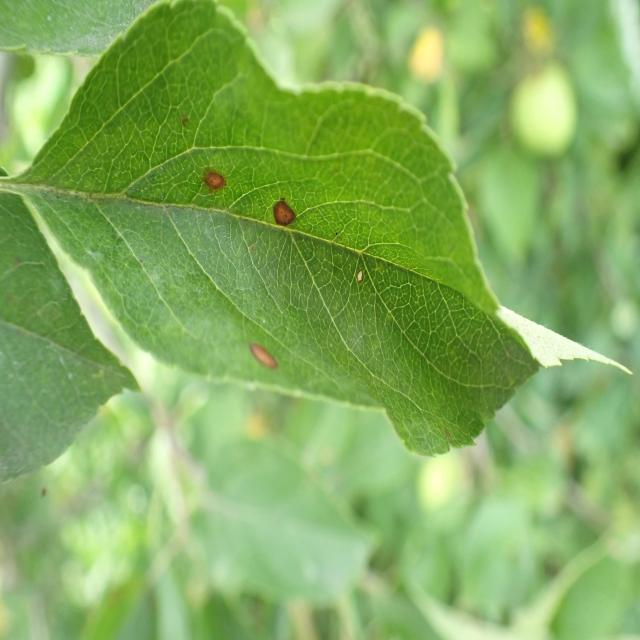Black Rot: (238, 326, 282, 386), (193, 151, 234, 198), (270, 186, 299, 245)
